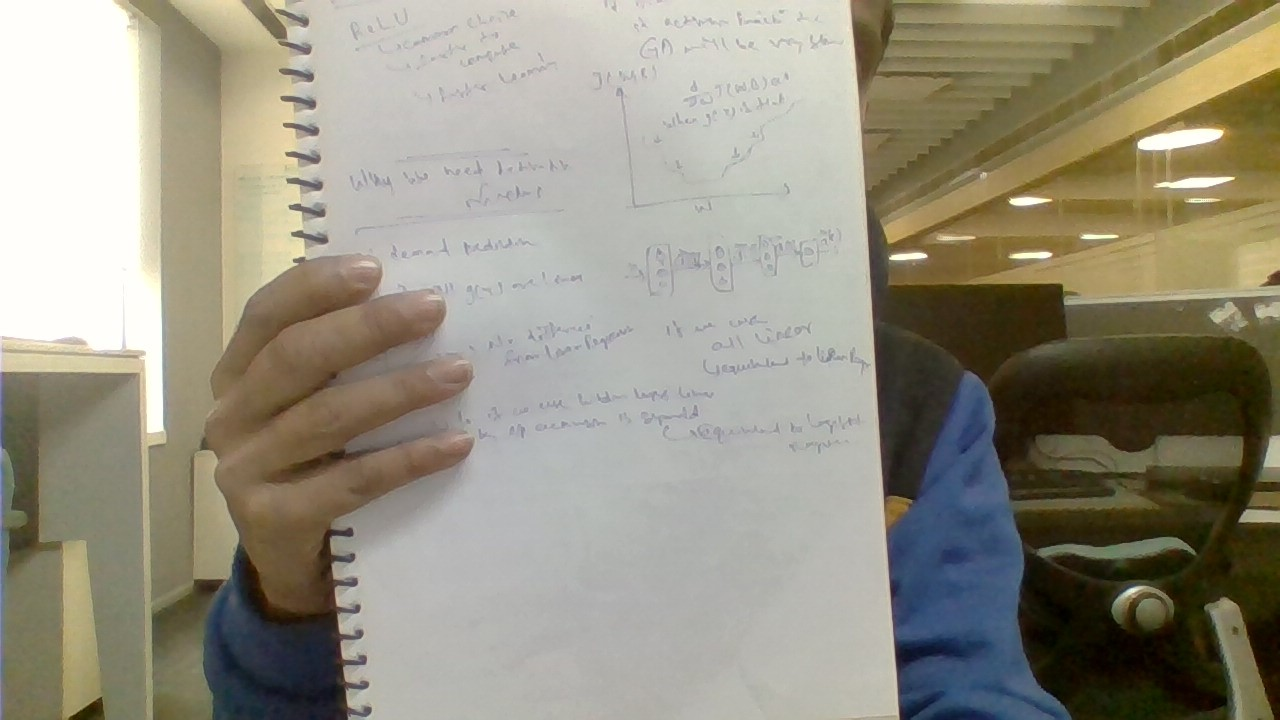partial: (284, 1, 871, 713)
